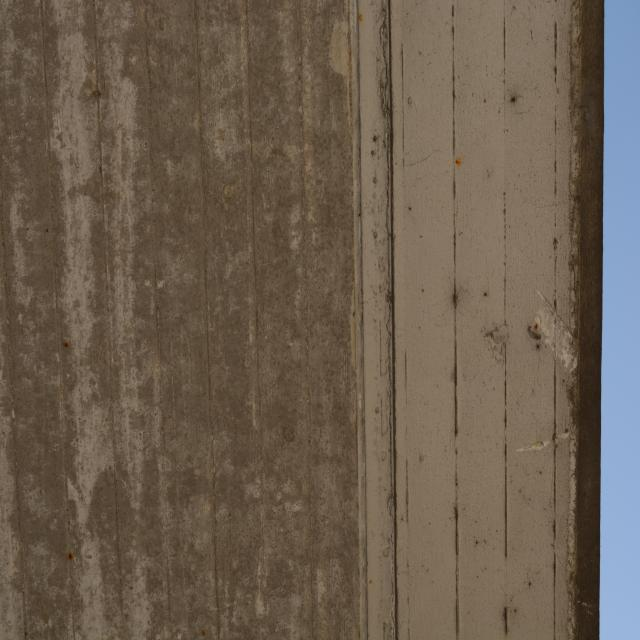horizontal crack: (398, 148, 442, 166)
vertical crack: (379, 0, 396, 640)
